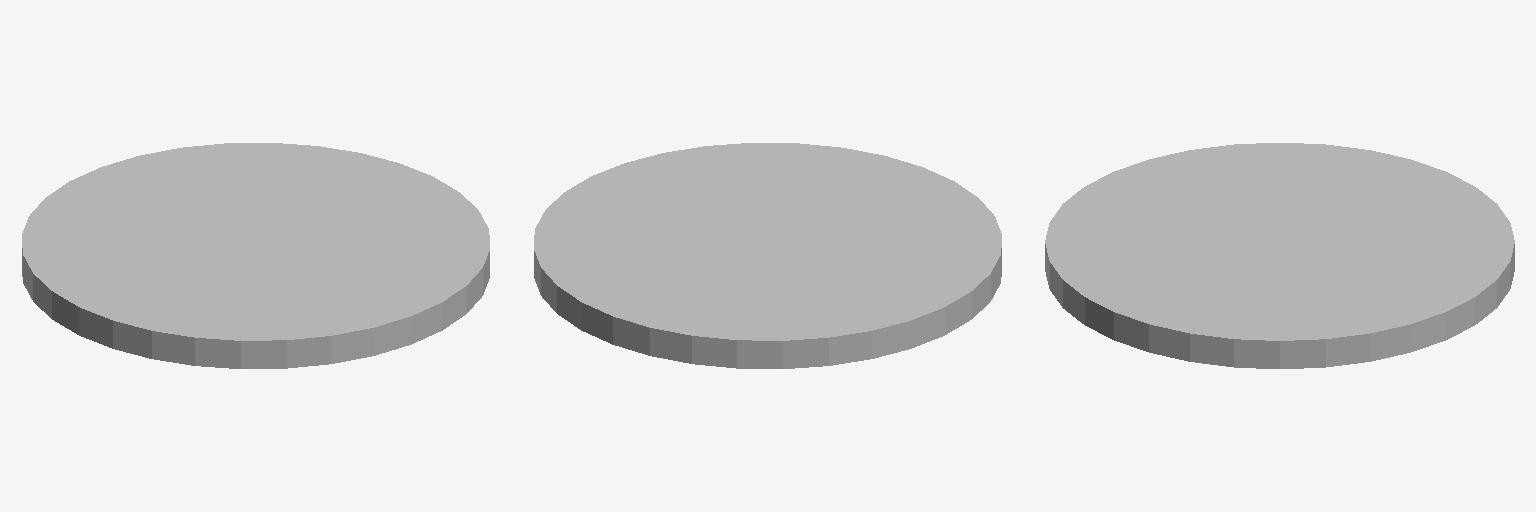
File: disk.obj
3 renders of one model, left to right at view 1: azimuth 30°, elevation 25°; view 2: azimuth 150°, elevation 25°; view 3: azimuth 270°, elevation 25°, orthographic.
Parts seen in each view (by area): view 1: Circle; view 2: Circle; view 3: Circle.
Part boxes in pixels (x1,y1,x2,y2): Circle: (22, 143, 489, 368); Circle: (534, 143, 1001, 368); Circle: (1045, 143, 1514, 368).
Bounding box in the file's own units: 2 × 0.1331 × 2.